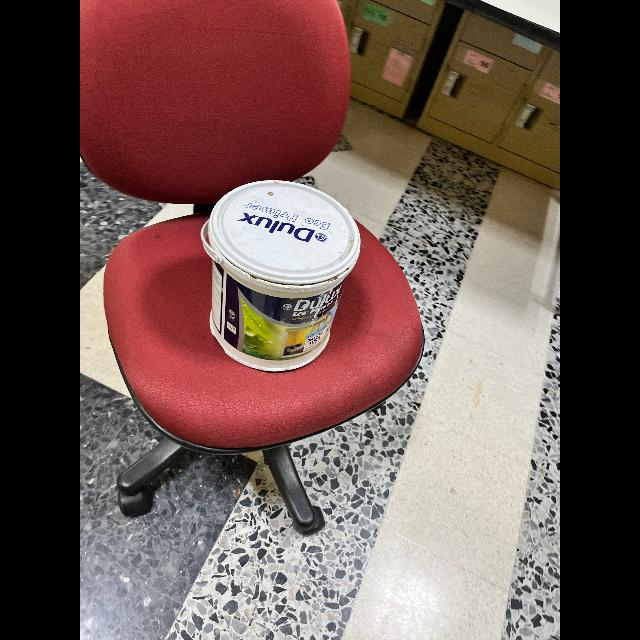paint_bucket: (188, 178, 368, 378)
